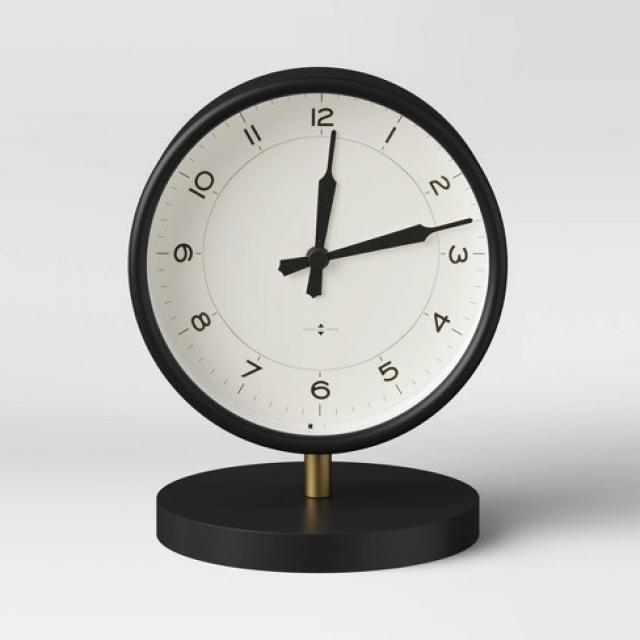clock: (148, 85, 546, 503)
